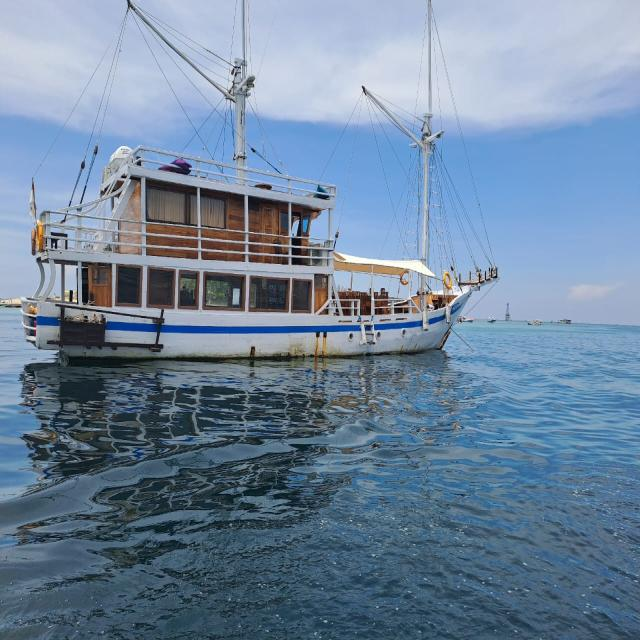Fishing Boat: (24, 114, 558, 396)
